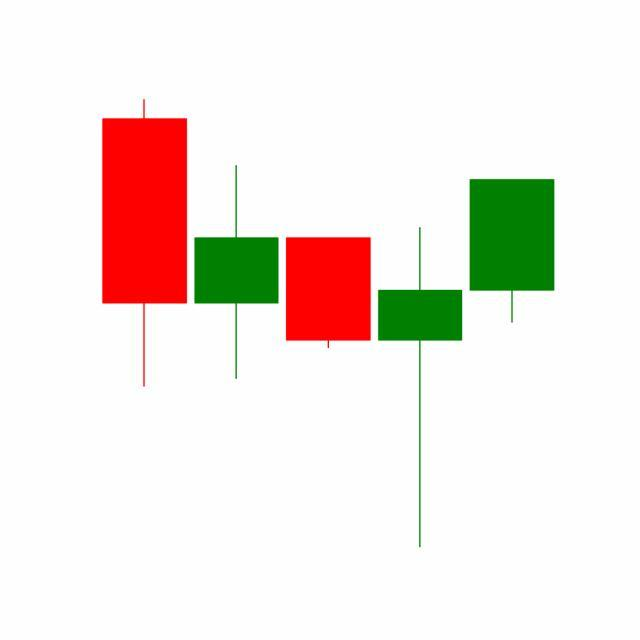Spinning Top: (374, 224, 468, 552)
